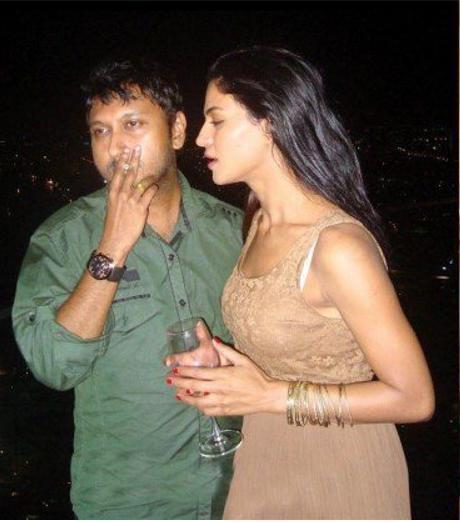Drunk: (84, 91, 173, 188), (192, 87, 272, 188)
